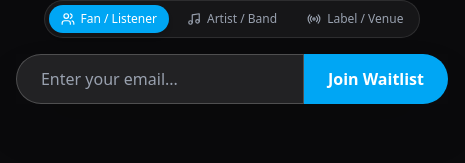
Test: WaitlistForm Component › shows error feedback when email is invalid
Step 1. Type "invalid-email" into the field with placeholder "Enter your email..." → [160, 79], box [16,54,304,104]
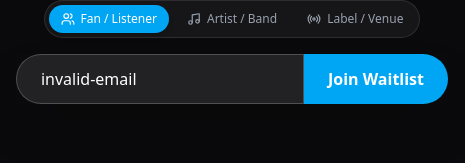
Step 2. Submit the form with placeholder "Enter your email...", box [16,54,448,104]
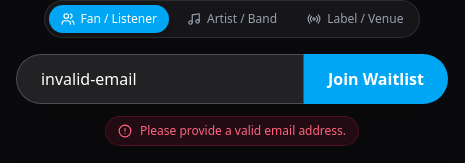
Check: the text "Please provide a valid email address." is shown, box [140,123,346,139]
